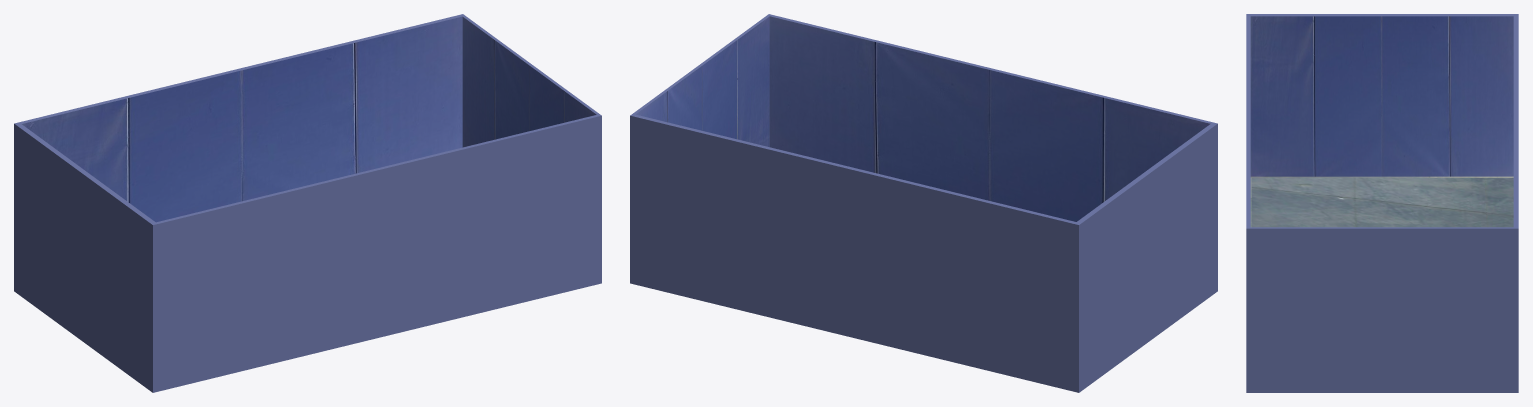
The model's file is ArenaTrue.dae.
The picture shows the model from 3 angles, left to right: view 1: azimuth 30°, elevation 25°; view 2: azimuth 150°, elevation 25°; view 3: azimuth 270°, elevation 25°; orthographic projection. The views are drawn at different scales.
Visible parts, largest first — view 1: ARENA; view 2: ARENA; view 3: ARENA.
Part boxes in pixels (left/top/right/bottom): ARENA: left=14, top=14, right=601, bottom=392; ARENA: left=630, top=14, right=1217, bottom=392; ARENA: left=1246, top=14, right=1518, bottom=392.
Bounding box in the file's own units: 28 × 15 × 10.
2 materials, 2 textured.
